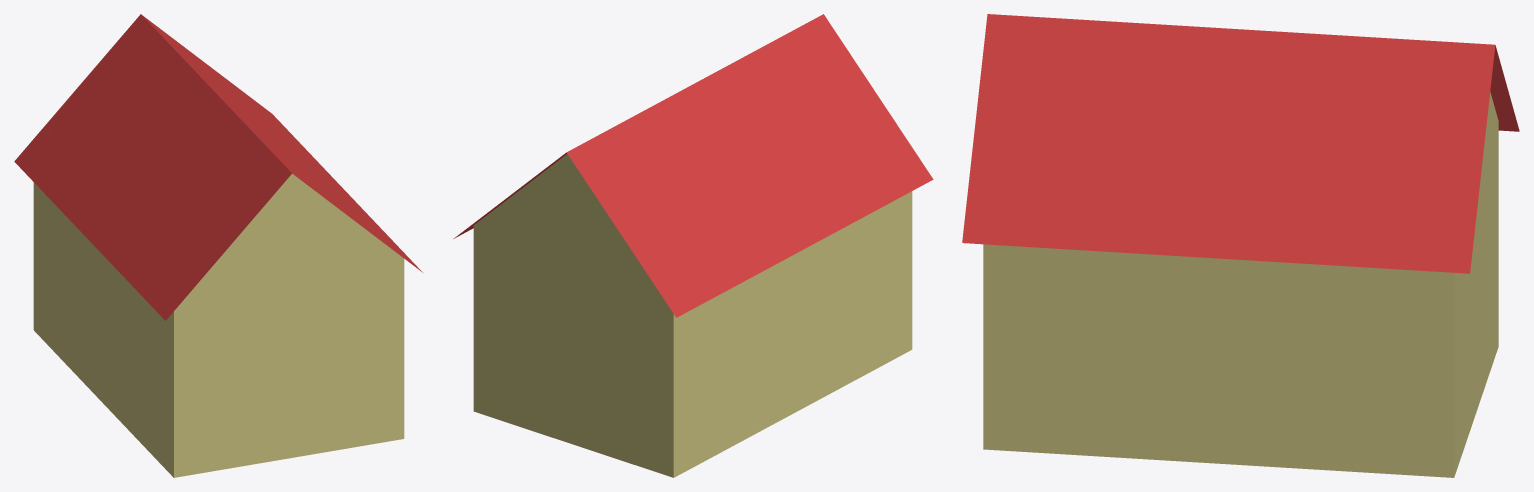
The picture shows the model from 3 angles, left to right: view 1: azimuth 30°, elevation 25°; view 2: azimuth 150°, elevation 25°; view 3: azimuth 270°, elevation 25°; orthographic projection. The views are drawn at different scales.
Size of the model in its own units: 11.21 by 14.88 by 10.81.
